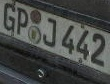2: (90, 21, 107, 70)
4: (60, 11, 75, 59), (77, 21, 90, 59)
G: (1, 0, 16, 33)
J: (42, 11, 58, 51)
P: (15, 1, 28, 40)
